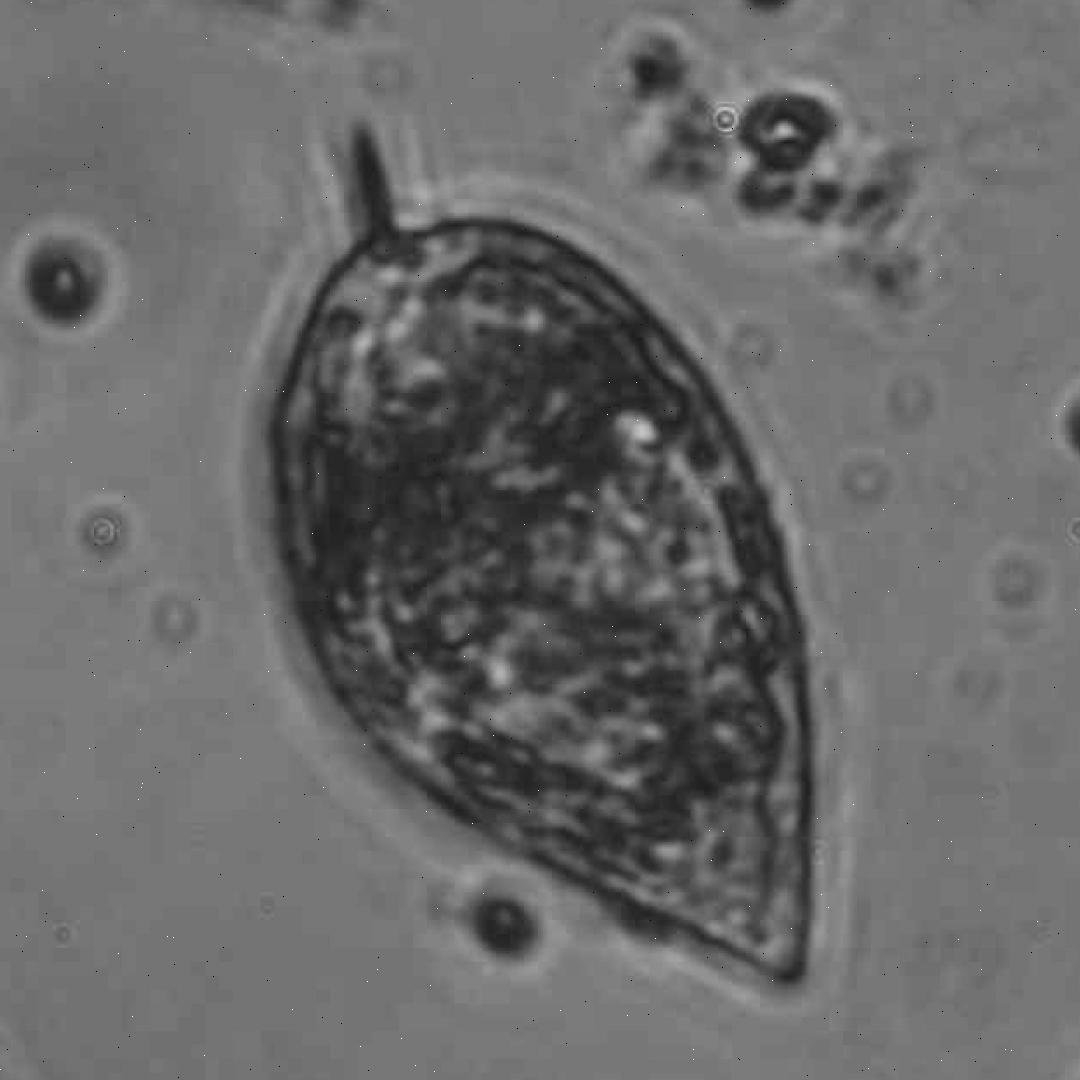prorocentrum_micans: (267, 124, 813, 983)
